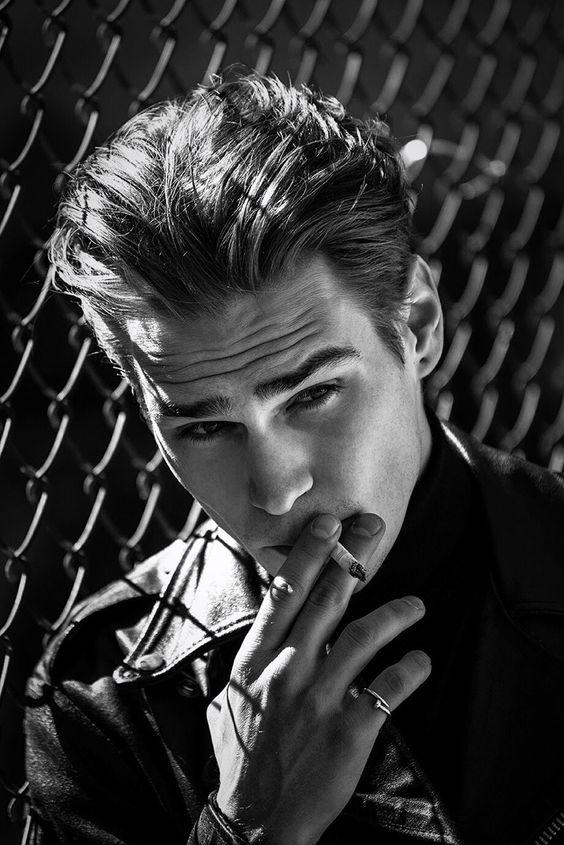cigarette: (331, 541, 367, 583)
